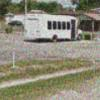buses: (23, 13, 84, 44)
